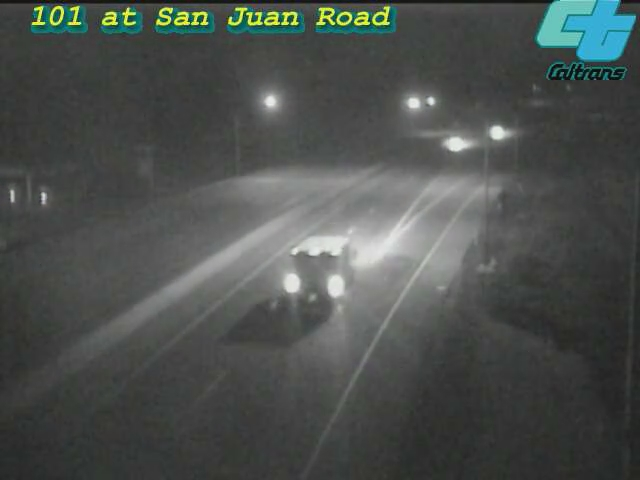vehicle: (271, 241, 351, 321), (470, 108, 520, 158), (427, 119, 477, 169)
